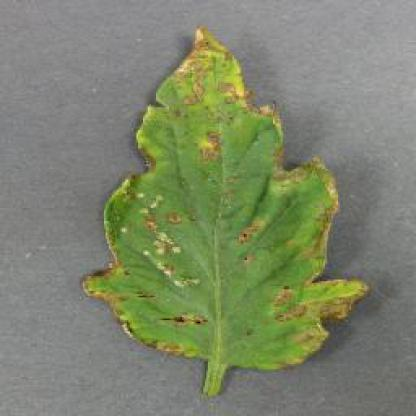bad leaf: (106, 35, 352, 367)
